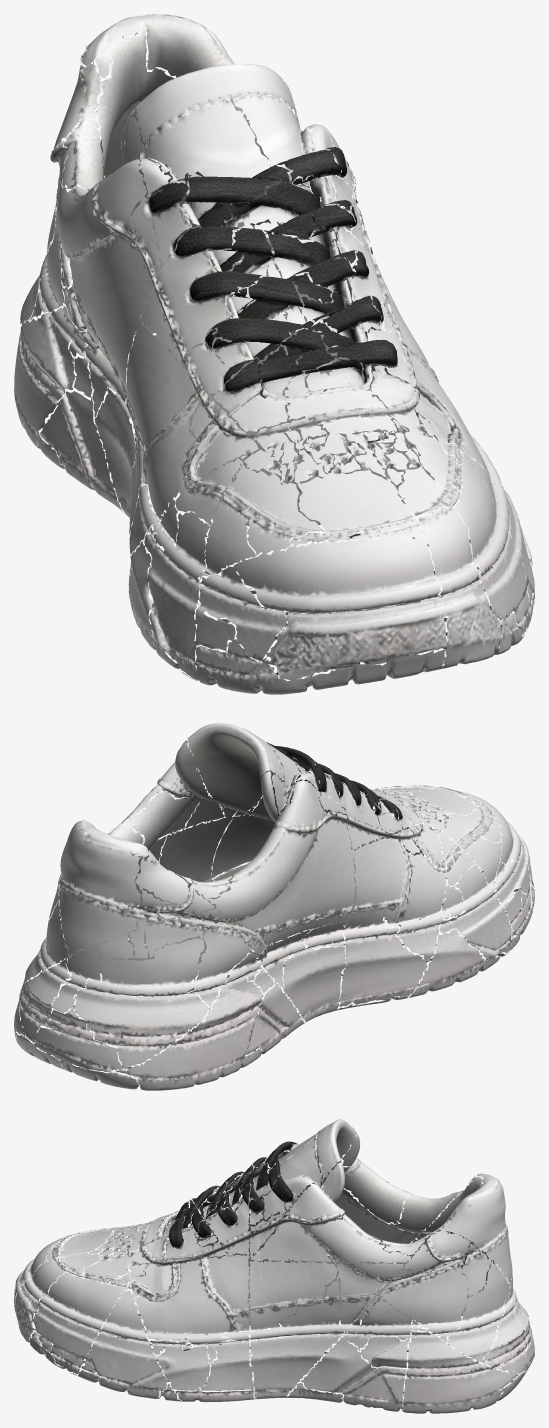
The model's file is shoes.glb.
3 renders of one model, top to bottom at view 1: azimuth 30°, elevation 25°; view 2: azimuth 150°, elevation 25°; view 3: azimuth 270°, elevation 25°, orthographic. The views are drawn at different scales.
Parts seen in each view (by area): view 1: tripo_node_ac2070aa-9dce-43a1-b75c-7f6d79869510; view 2: tripo_node_ac2070aa-9dce-43a1-b75c-7f6d79869510; view 3: tripo_node_ac2070aa-9dce-43a1-b75c-7f6d79869510.
Part boxes in pixels (x1,y1,x2,y2): tripo_node_ac2070aa-9dce-43a1-b75c-7f6d79869510: (14,14,534,694); tripo_node_ac2070aa-9dce-43a1-b75c-7f6d79869510: (14,723,534,1090); tripo_node_ac2070aa-9dce-43a1-b75c-7f6d79869510: (14,1119,534,1413).
Size of the model in its own units: 0.5227 by 0.4937 by 0.9802.
1 material, 1 textured.
